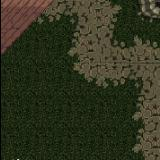Hide: (120, 0, 160, 36)
